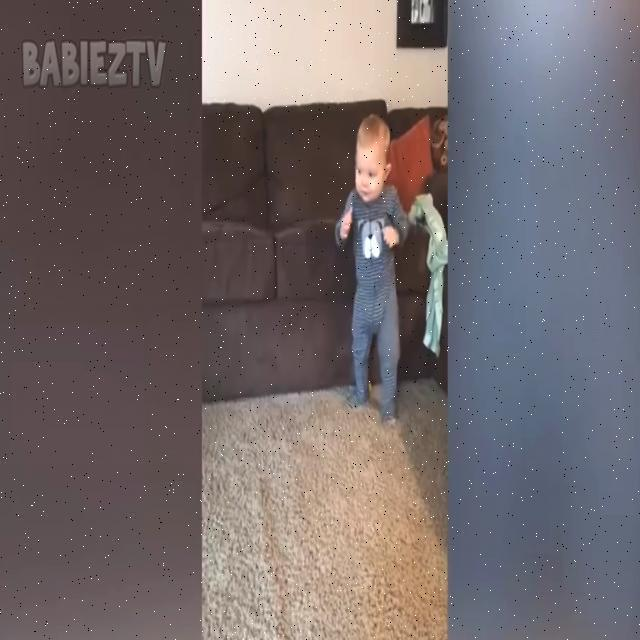child: (338, 118, 411, 417)
